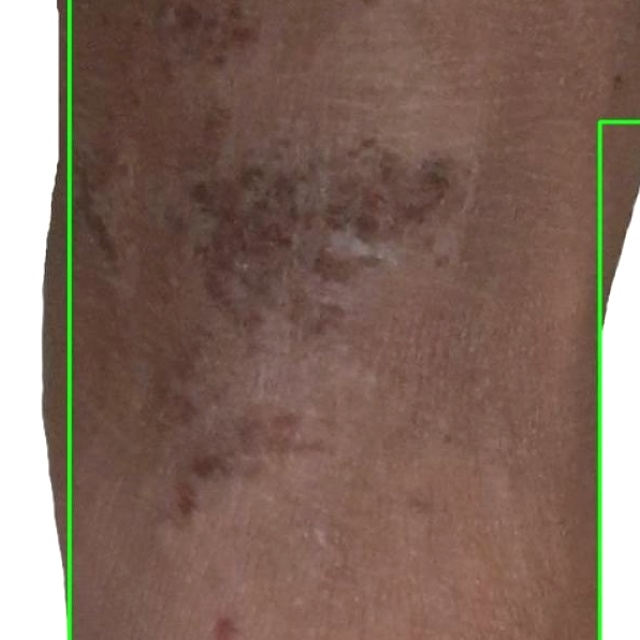Contact Dermatitis: (0, 0, 69, 639), (599, 122, 639, 639)
